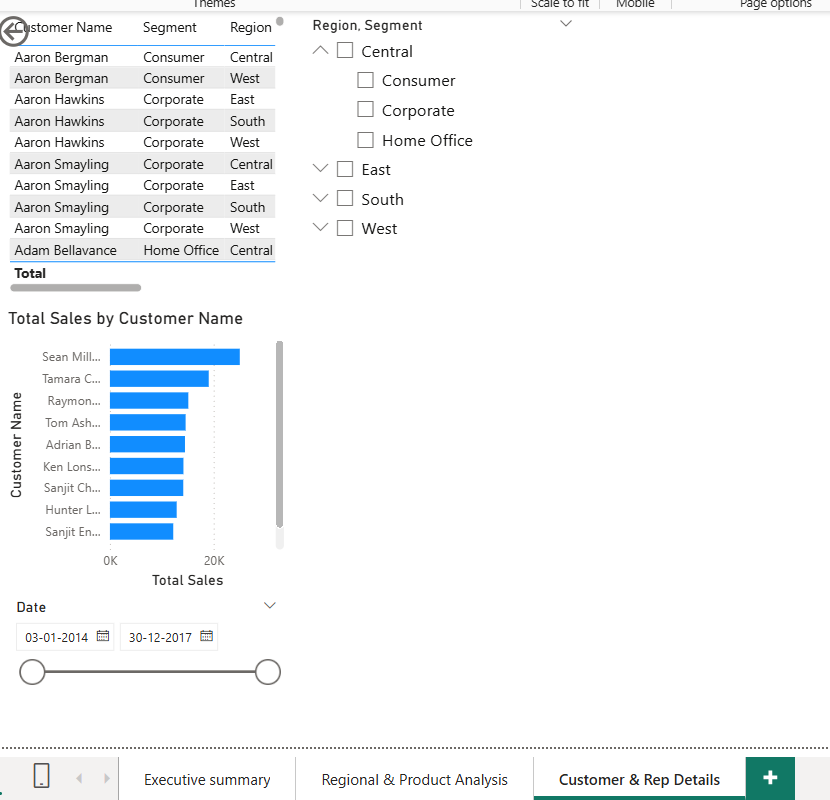

This screenshot's page, from the dashboard's own definition file:
{"tool":"powerbi","page":{"name":"Customer & Rep Details","canvas":[1280,720],"ordinal":2},"visuals":[{"type":"tableEx","fields":{"Values":["Orders.Customer Name","Orders.Segment","Orders.Region","Orders.Total Orders","Orders.Total Sales","Orders.Total Profit"]},"box":[10,0,280,280],"z":0},{"type":"barChart","fields":{"Category":["Orders.Customer Name"],"Y":["Orders.Total Sales"]},"box":[10,290,280,280],"z":1},{"type":"slicer","fields":{"Values":["DateTable.Date"]},"box":[10,570,280,150],"z":2},{"type":"slicer","fields":{"Values":["Orders.Region","Orders.Segment"]},"box":[300,0,280,280],"z":3},{"type":"actionButton","box":[0,0,100,40],"z":4}]}

Visuals, with their boxes on the page's 1280x720 design canvas (x1, y1, x2, y2). These are canvas units, not pixel positions in the 830x800 screenshot, which may show the page scaled, cropped or inside an application window:
tableEx - Orders.Customer Name x Orders.Segment: 10, 0, 290, 280
barChart - Orders.Customer Name x Orders.Total Sales: 10, 290, 290, 570
slicer - DateTable.Date: 10, 570, 290, 720
slicer - Orders.Region x Orders.Segment: 300, 0, 580, 280
actionButton: 0, 0, 100, 40
